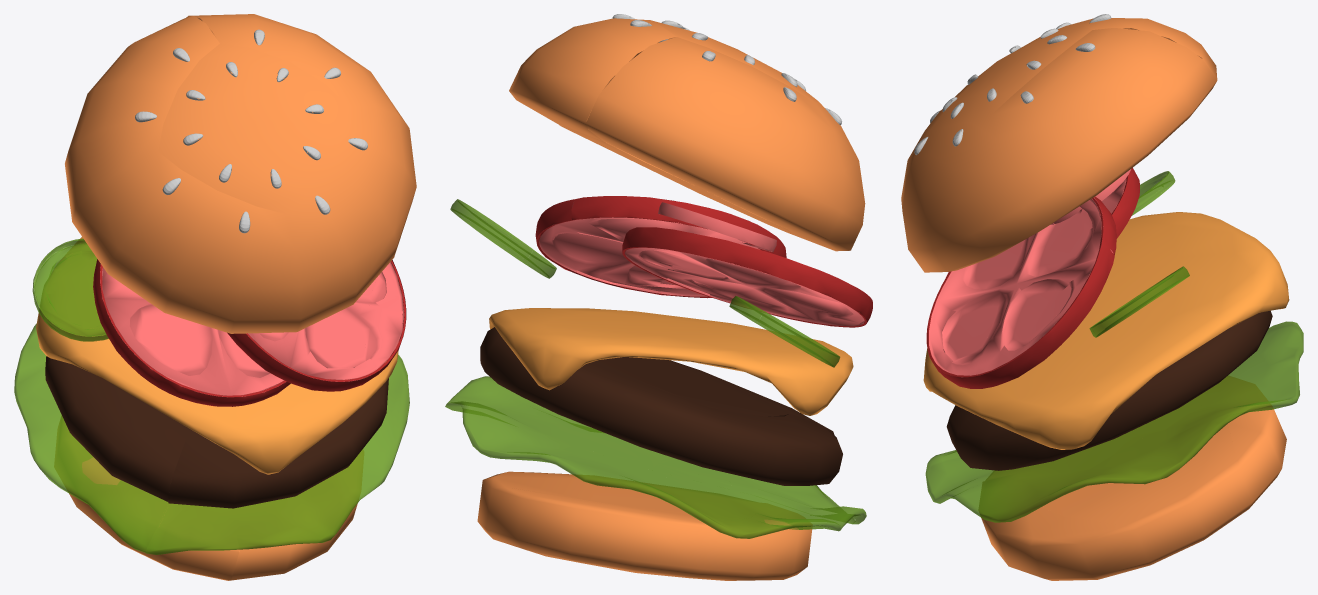
Rendered from burger.glb.
3 renders of one model, left to right at view 1: azimuth 30°, elevation 25°; view 2: azimuth 150°, elevation 25°; view 3: azimuth 270°, elevation 25°, orthographic. The views are drawn at different scales.
Visible parts, largest first — view 1: burger; view 2: burger; view 3: burger.
Boxes of the visible parts, x1,y1,x2,y2 form: burger: (14,14,416,580); burger: (445,14,872,580); burger: (901,14,1303,580).
Bounding box in the file's own units: 0.0888 × 0.1237 × 0.0874.
